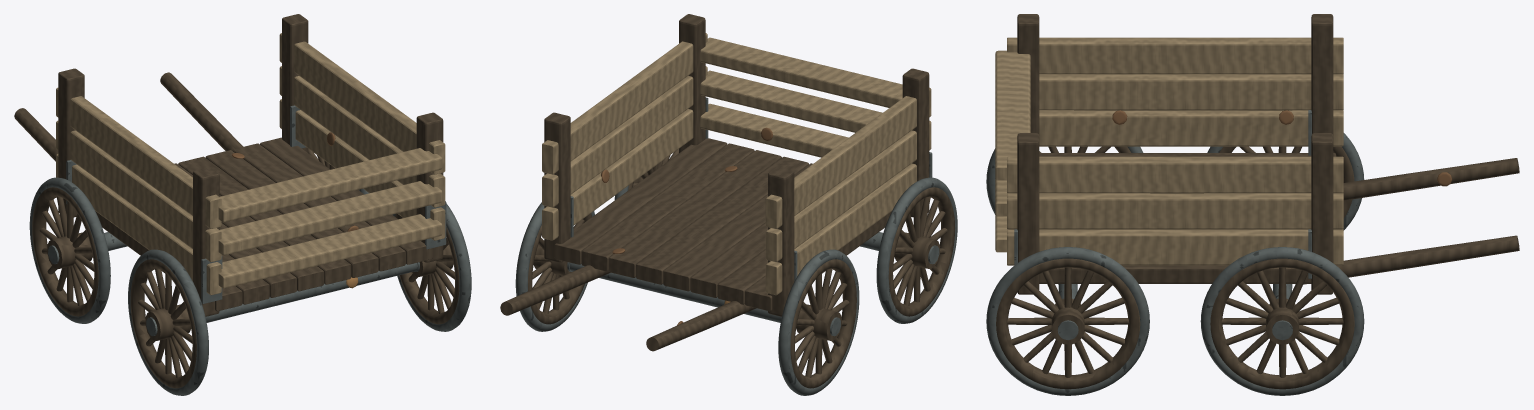
The picture shows the model from 3 angles, left to right: view 1: azimuth 30°, elevation 25°; view 2: azimuth 150°, elevation 25°; view 3: azimuth 270°, elevation 25°; orthographic projection. The views are drawn at different scales.
Visible parts, largest first — view 1: cut grain, heartwood, forged iron; view 2: heartwood, cut grain, forged iron; view 3: cut grain, heartwood, forged iron.
Part boxes in pixels (x1,y1,x2,y2): cut grain: [56, 33, 445, 295]; heartwood: [14, 14, 459, 388]; forged iron: [29, 105, 471, 395]; heartwood: [500, 14, 954, 388]; cut grain: [542, 33, 931, 295]; forged iron: [515, 97, 957, 395]; cut grain: [995, 37, 1343, 265]; heartwood: [996, 14, 1519, 389]; forged iron: [986, 110, 1364, 395].
Bounding box in the file's own units: 1.23 × 0.892 × 1.74.
5 materials, 3 textured.
